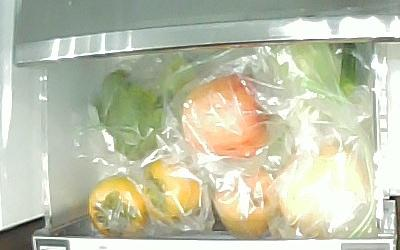apple_vinyl: (182, 76, 269, 155)
broccoli_vinyl: (98, 56, 194, 163)
grapefruit_vinyl: (277, 145, 366, 233)
peach_vinyl: (214, 167, 277, 238)
persimmon_vinyl: (140, 159, 200, 222), (88, 175, 149, 233)
